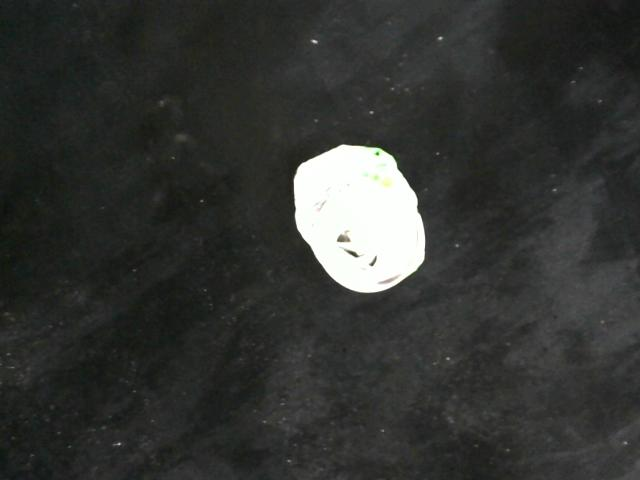can: (288, 141, 432, 297)
